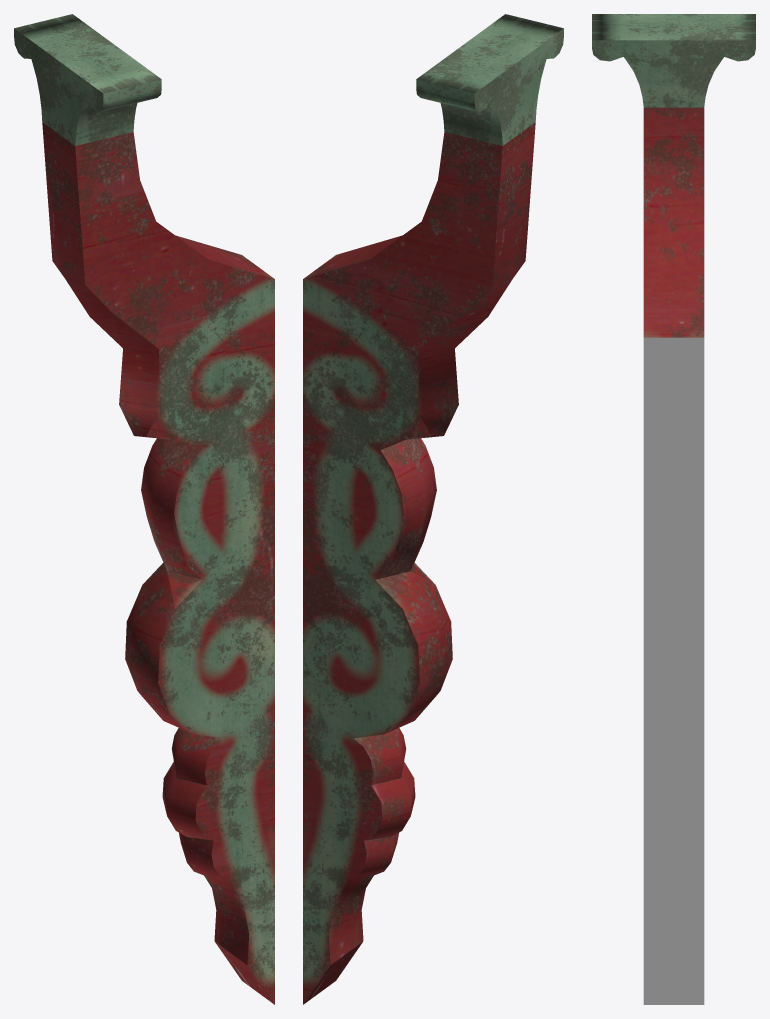
Rendered from SM_M_Handrail_3.fbx.
3 renders of one model, left to right at view 1: azimuth 30°, elevation 25°; view 2: azimuth 150°, elevation 25°; view 3: azimuth 270°, elevation 25°, orthographic. The views are drawn at different scales.
Parts seen in each view (by area): view 1: SM_M_Handrail_3_LOD0; view 2: SM_M_Handrail_3_LOD0; view 3: SM_M_Handrail_3_LOD0.
Boxes of the visible parts, <box> form: SM_M_Handrail_3_LOD0: <box>14,14,274,1004</box>; SM_M_Handrail_3_LOD0: <box>303,14,563,1004</box>; SM_M_Handrail_3_LOD0: <box>592,14,755,1004</box>.
Bounding box in the file's own units: 38.76 × 29.99 × 182.
